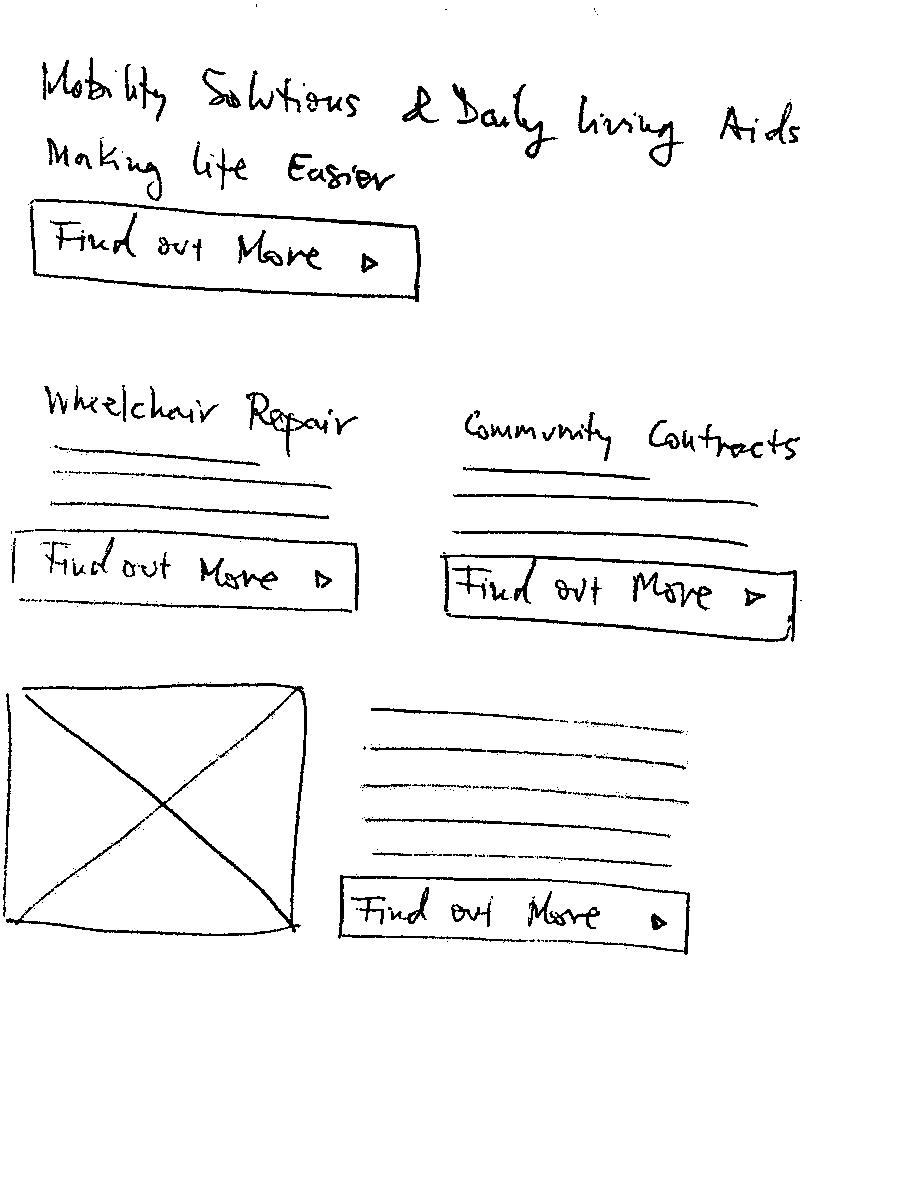Button: (1, 674, 311, 943), (24, 189, 427, 309), (433, 545, 807, 645), (4, 522, 371, 620), (331, 869, 698, 960)
Paragraph: (358, 698, 700, 883), (442, 458, 775, 553), (42, 438, 347, 529)
